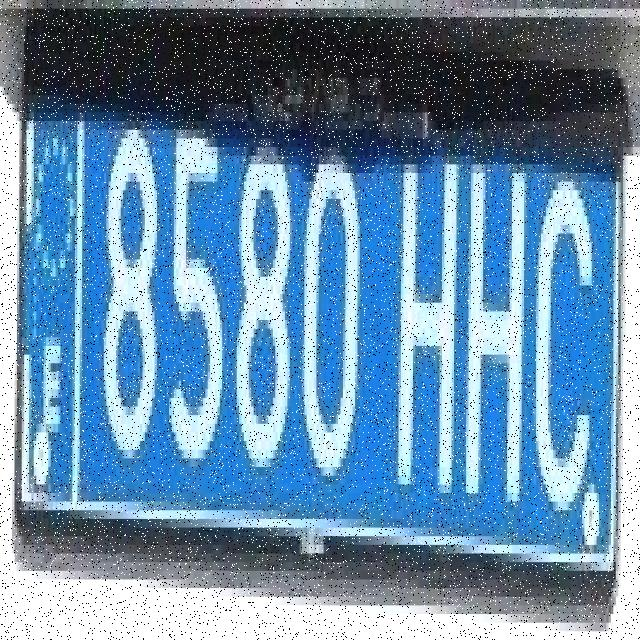licenseplate: (15, 7, 622, 588)
